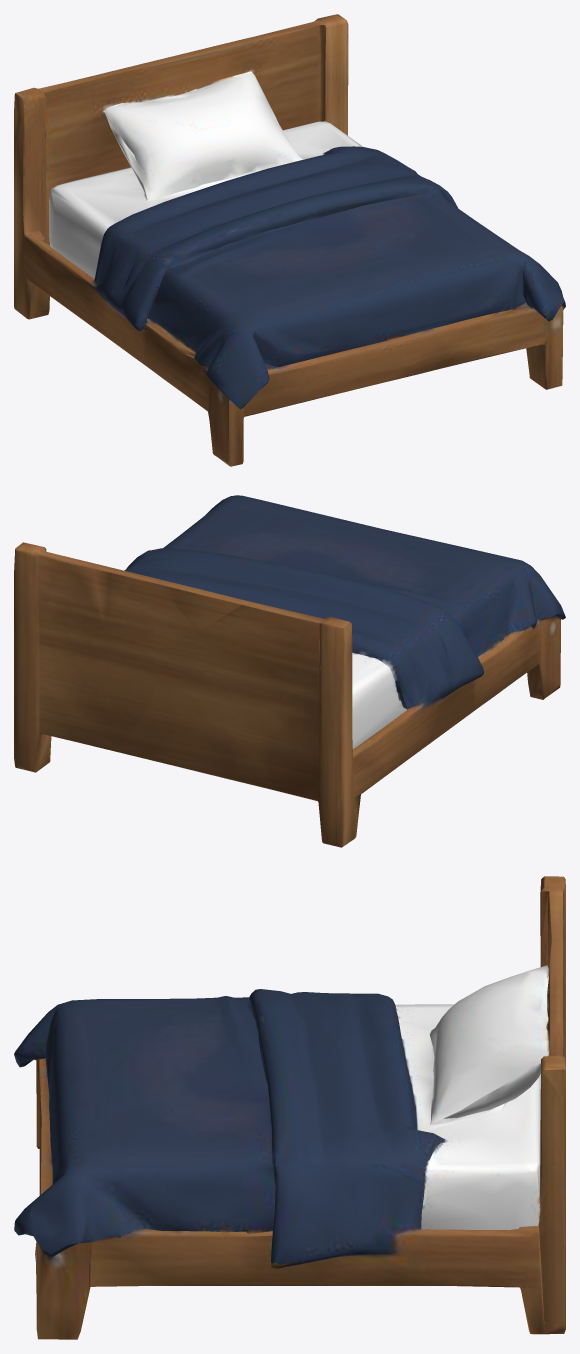
File: bed.glb
3 renders of one model, top to bottom at view 1: azimuth 30°, elevation 25°; view 2: azimuth 150°, elevation 25°; view 3: azimuth 270°, elevation 25°, orthographic. The views are drawn at different scales.
Parts seen in each view (by area): view 1: bed; view 2: bed; view 3: bed.
Boxes of the visible parts, x1,y1,x2,y2 form: bed: (14,14,565,466); bed: (14,495,565,847); bed: (14,876,565,1339).
Size of the model in its own units: 1.02 by 0.6 by 1.12.
Materials: 1 (1 with a texture image).
